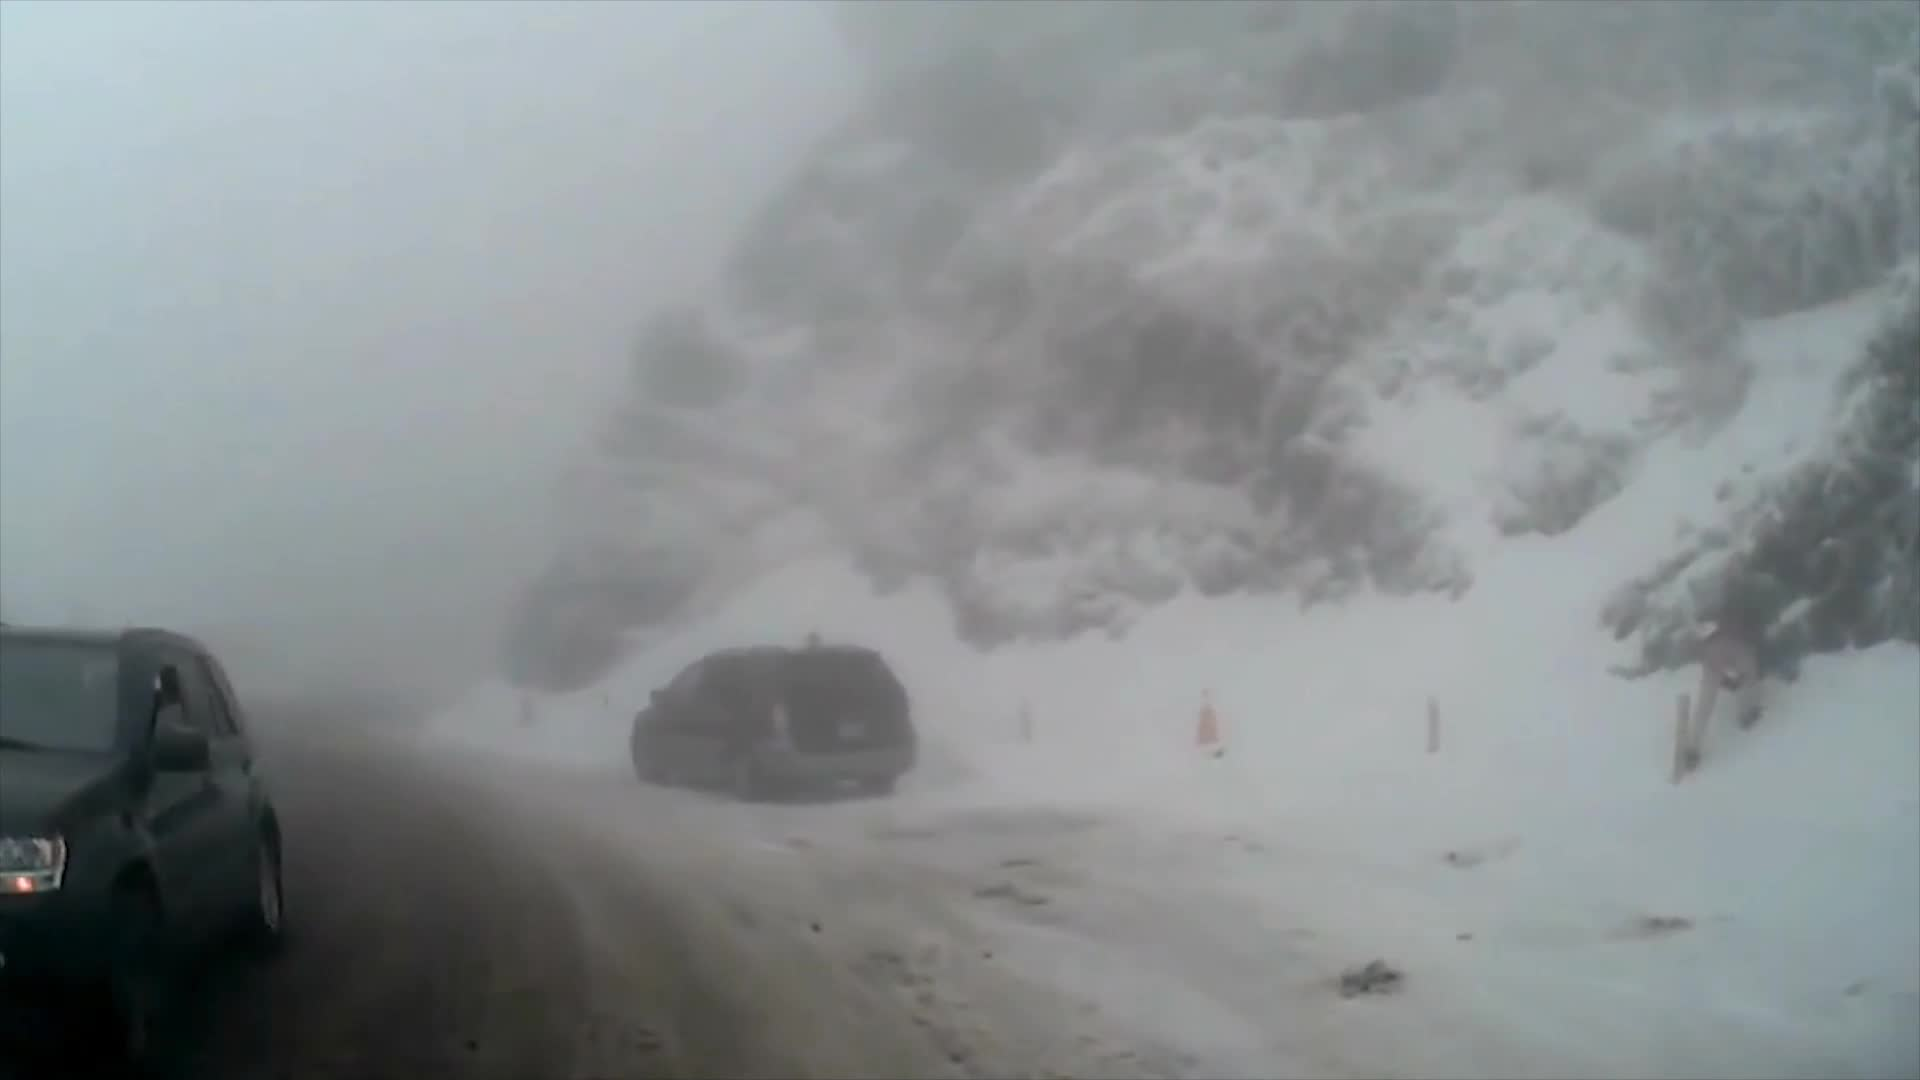vehicle: (0, 618, 289, 1069), (630, 644, 916, 798)
